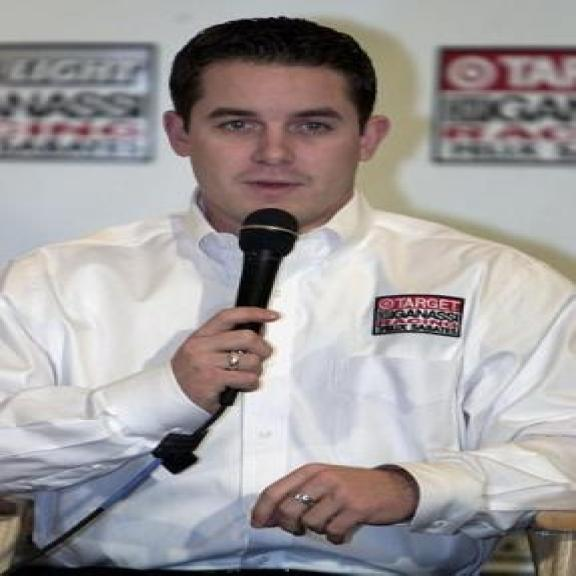face: (161, 61, 400, 233)
